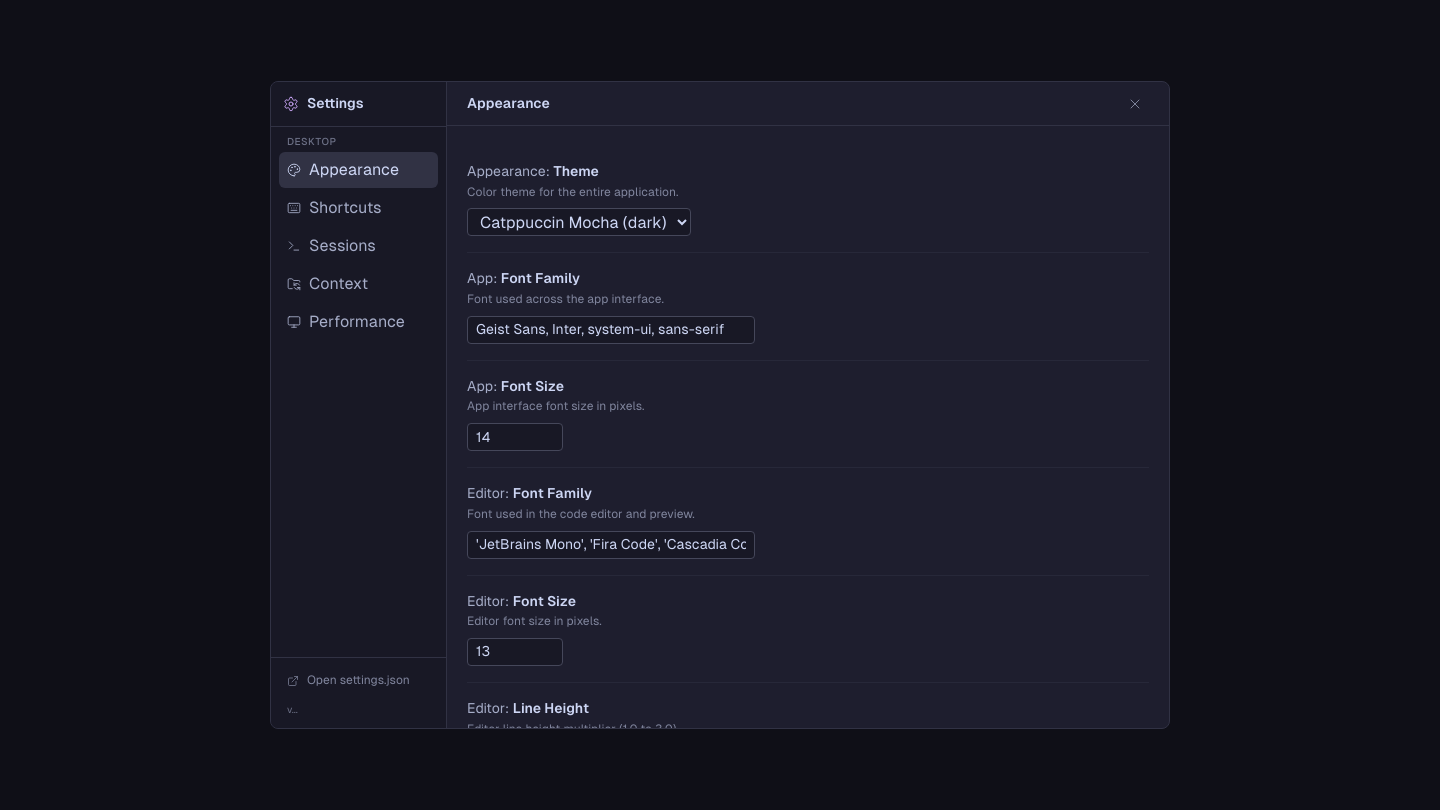
Test case: SettingsDialog › navigates to Shortcuts section on click
This screenshot has width=1440, height=810.
Click the button "Shortcuts" at coordinates (358, 208), box [279,190,438,226]
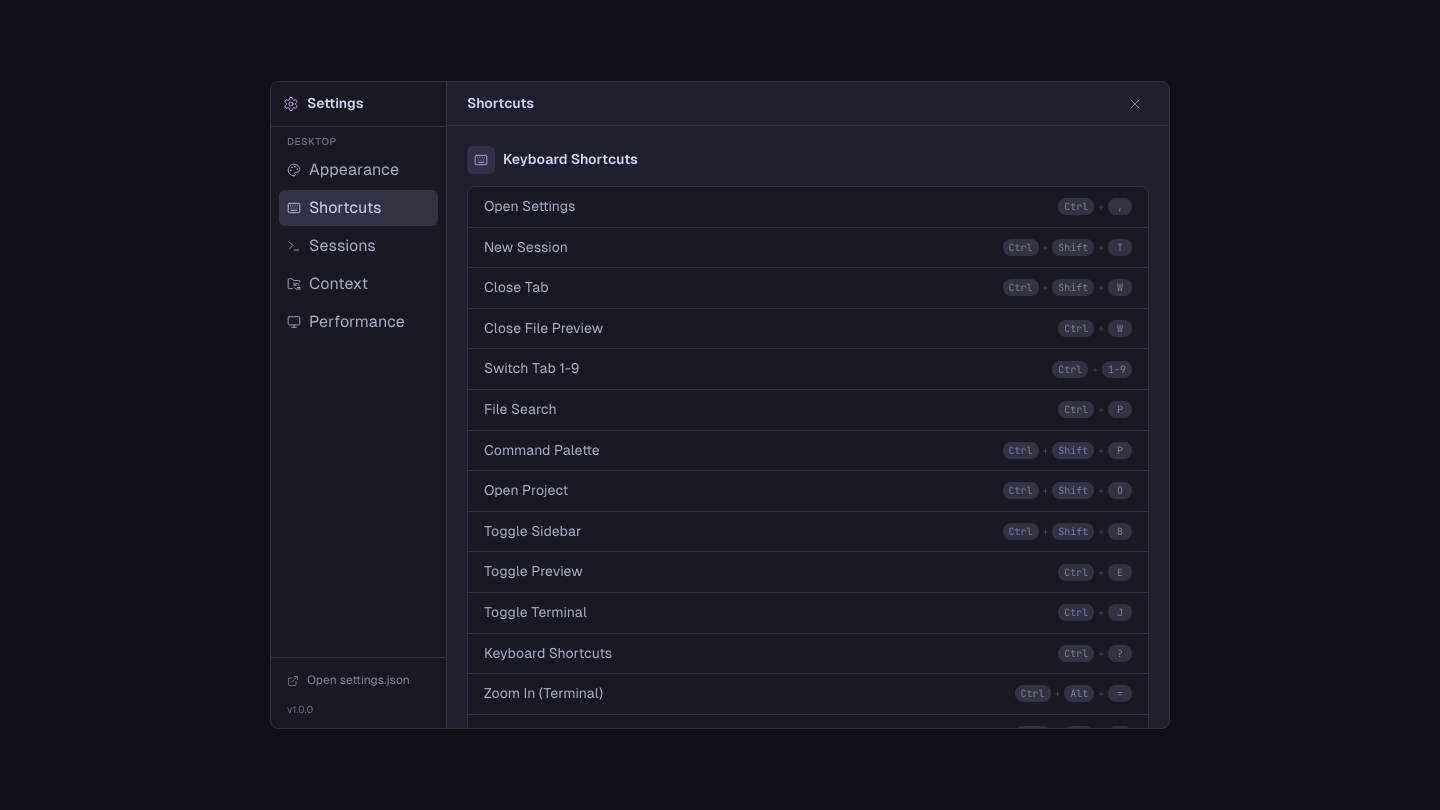
Now the element with test id "settings-section-shortcuts" is shown, box [467,146,1149,728]
